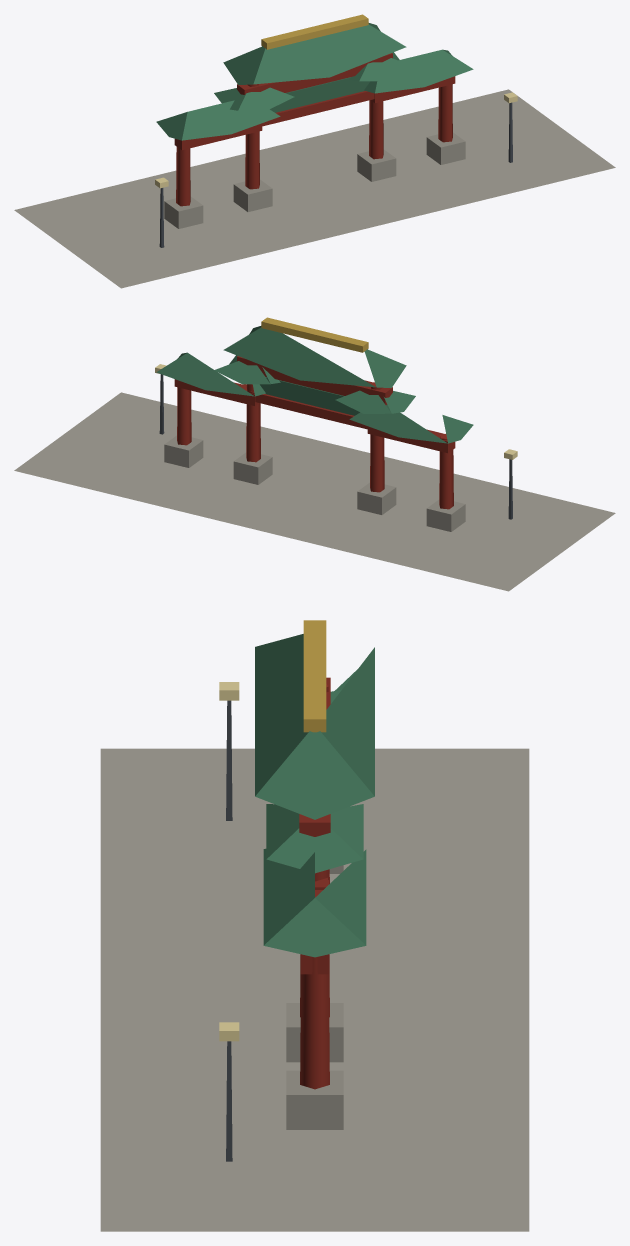
The model's file is mobile.glb.
The picture shows the model from 3 angles, top to bottom: view 1: azimuth 30°, elevation 25°; view 2: azimuth 150°, elevation 25°; view 3: azimuth 270°, elevation 25°; orthographic projection. The views are drawn at different scales.
Visible parts, largest first — view 1: lm.dragon-gate; view 2: lm.dragon-gate; view 3: lm.dragon-gate.
Boxes of the visible parts, x1,y1,x2,y2 form: lm.dragon-gate: [14, 14, 615, 288]; lm.dragon-gate: [14, 317, 615, 591]; lm.dragon-gate: [100, 620, 529, 1231].
Bounding box in the file's own units: 40 × 14.4 × 15.
